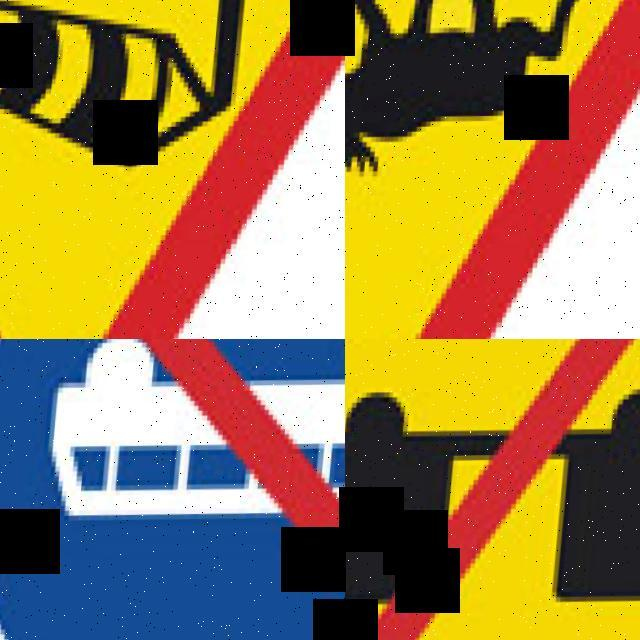155: (0, 0, 345, 339)
46: (345, 339, 640, 640)
End of lane reserved for public transport: (0, 339, 345, 640)
warning wild animal: (345, 0, 640, 339)
